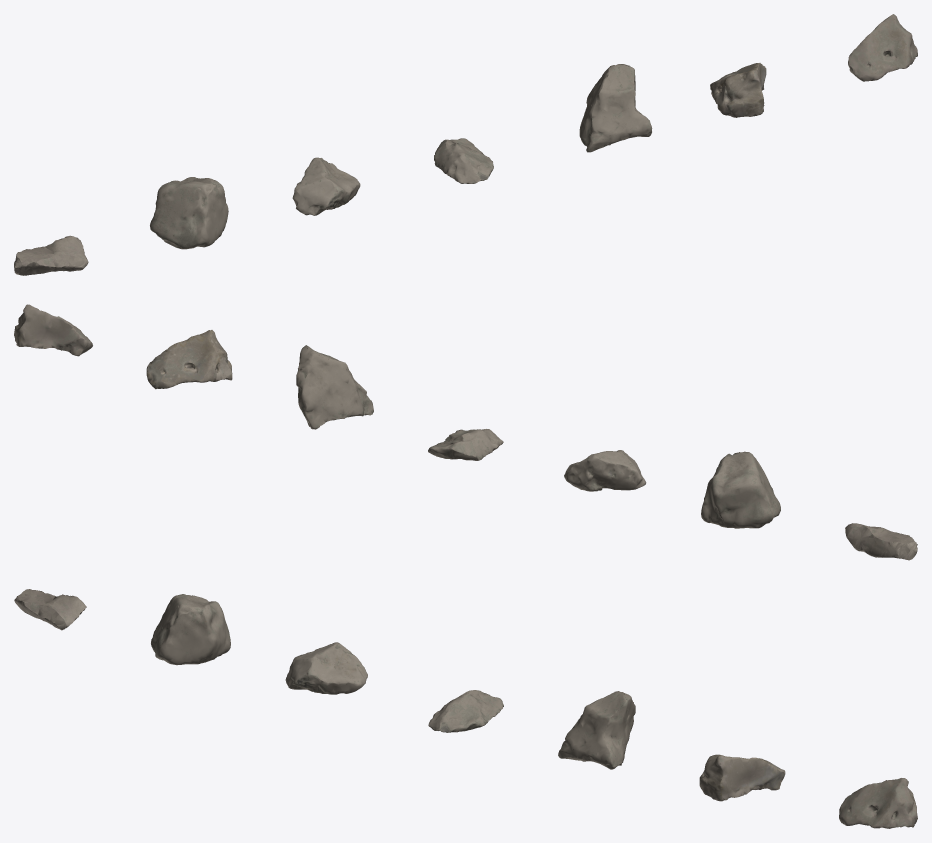
The model's file is rocas_lunares.glb.
3 views of the same model, one above another, from view 1: azimuth 30°, elevation 25°; view 2: azimuth 150°, elevation 25°; view 3: azimuth 330°, elevation 25° (orthographic).
Visible parts, largest first — view 1: moon_rock_02, moon_rock_05, moon_rock_07, moon_rock_03, moon_rock_06, moon_rock_01, moon_rock_04; view 2: moon_rock_02, moon_rock_05, moon_rock_06, moon_rock_03, moon_rock_07, moon_rock_01, moon_rock_04; view 3: moon_rock_02, moon_rock_05, moon_rock_03, moon_rock_07, moon_rock_06, moon_rock_04, moon_rock_01.
Boxes of the visible parts, box(x1,y1,x2,y2) form: moon_rock_02: box(150, 177, 228, 249); moon_rock_05: box(579, 64, 652, 152); moon_rock_07: box(848, 14, 917, 81); moon_rock_03: box(292, 157, 360, 215); moon_rock_06: box(710, 63, 766, 117); moon_rock_01: box(14, 235, 88, 275); moon_rock_04: box(434, 138, 493, 183); moon_rock_02: box(701, 451, 780, 528); moon_rock_05: box(296, 345, 373, 429); moon_rock_06: box(146, 330, 232, 389); moon_rock_03: box(564, 450, 646, 491); moon_rock_07: box(14, 304, 92, 356); moon_rock_01: box(845, 523, 917, 560); moon_rock_04: box(428, 429, 503, 460); moon_rock_02: box(151, 594, 230, 665); moon_rock_05: box(558, 691, 635, 769); moon_rock_03: box(285, 642, 367, 694); moon_rock_07: box(839, 778, 917, 828); moon_rock_06: box(699, 754, 785, 801); moon_rock_04: box(428, 690, 503, 732); moon_rock_01: box(14, 589, 86, 630).
Size of the model in its own units: 13 by 0.9064 by 1.
Materials: 7 (7 with a texture image).
